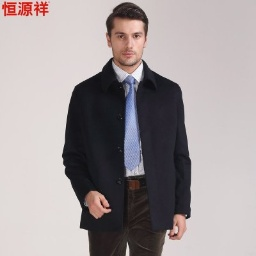face: (106, 2, 146, 67)
